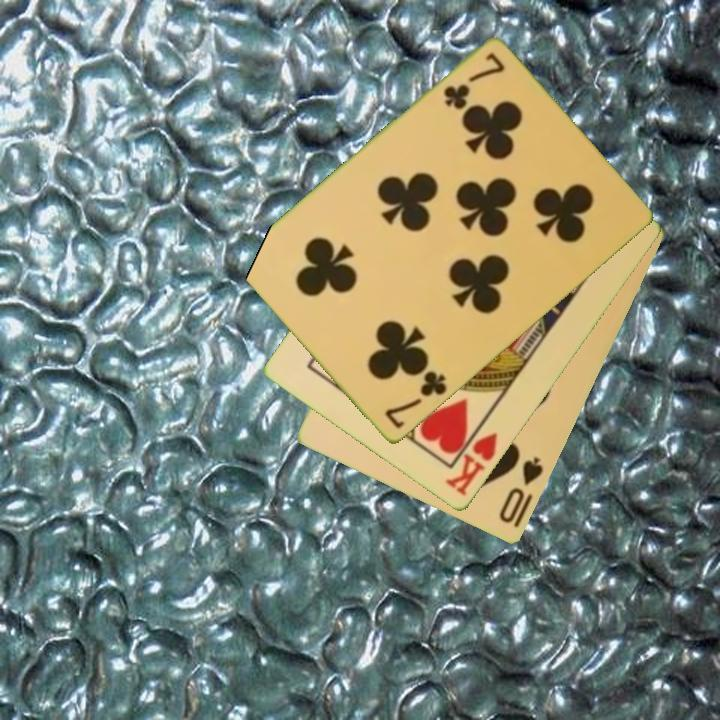10s: (495, 453, 547, 527)
7c: (381, 367, 450, 433), (440, 49, 508, 114)
Kh: (442, 417, 501, 500)
